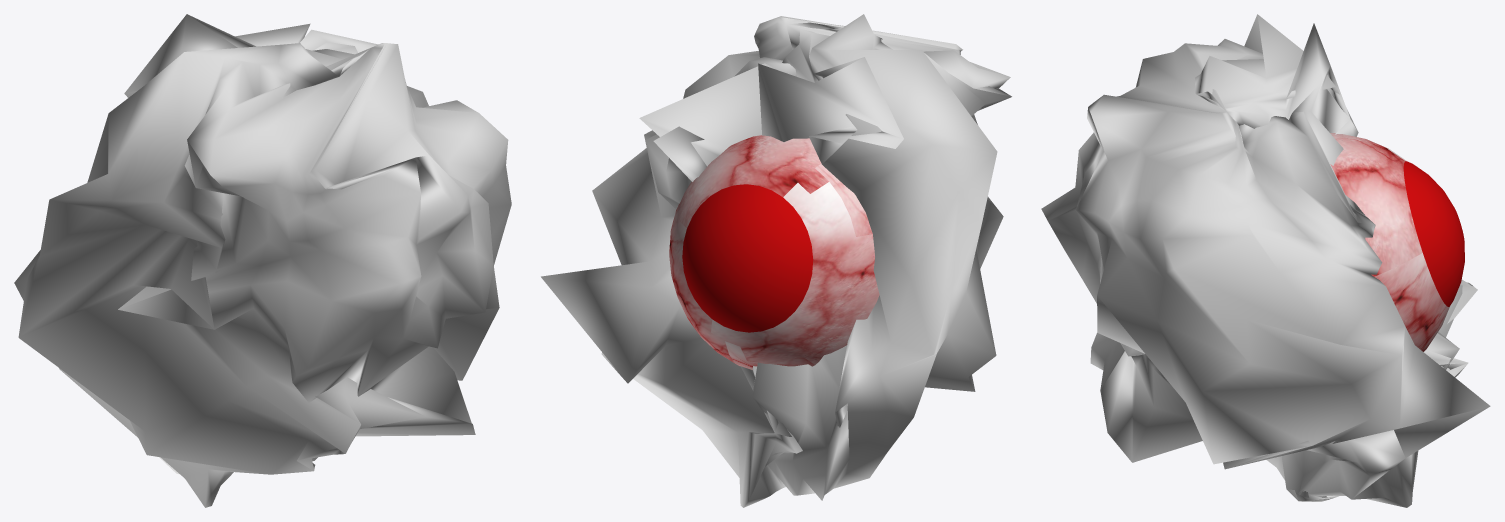
The model's file is posast2.fbx.
3 renders of one model, left to right at view 1: azimuth 30°, elevation 25°; view 2: azimuth 150°, elevation 25°; view 3: azimuth 270°, elevation 25°, orthographic. The views are drawn at different scales.
Visible parts, largest first — view 1: rotting meat; view 2: rotting meat, eye, cornea; view 3: rotting meat, eye, cornea.
Part boxes in pixels (x1,y1,x2,y2): rotting meat: (14, 14, 511, 507); rotting meat: (541, 14, 1011, 507); eye: (669, 135, 879, 369); cornea: (682, 184, 813, 332); rotting meat: (1041, 14, 1490, 507); eye: (1330, 133, 1449, 351); cornea: (1403, 161, 1464, 306).
Bounding box in the file's own units: 747 × 734 × 671.
